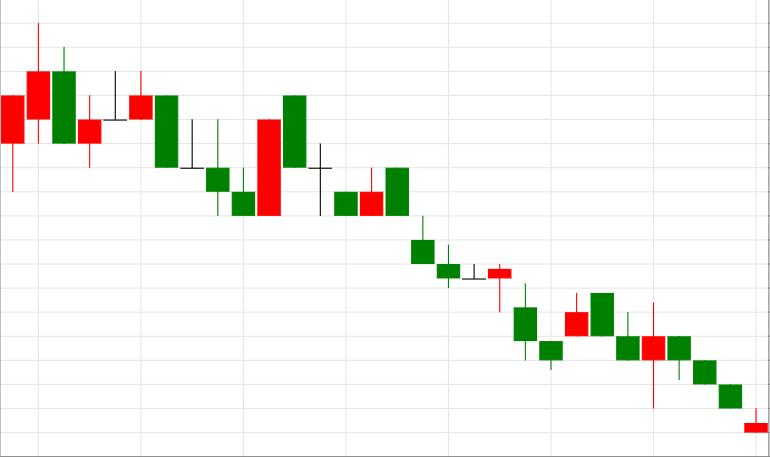bullish_engulfing_rise: (129, 71, 281, 216)
